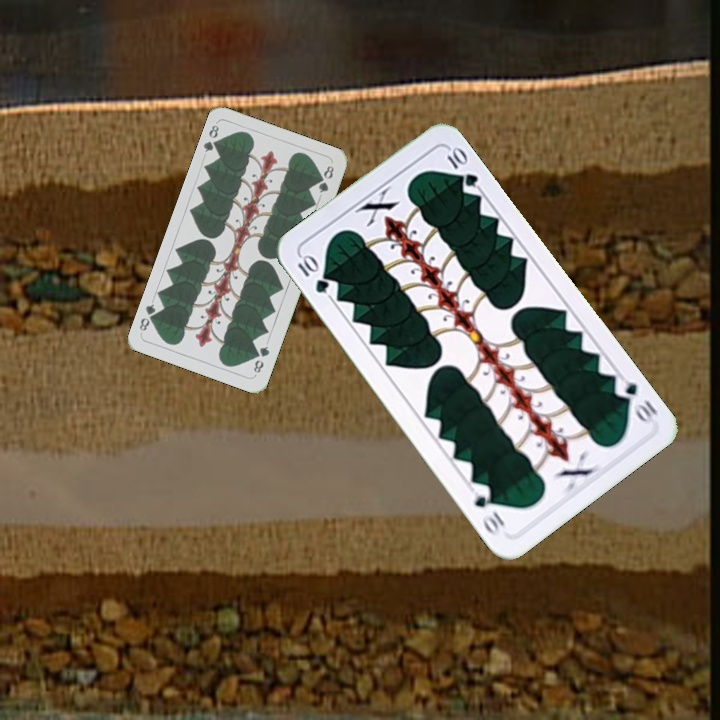G10: (609, 372, 660, 425), (293, 250, 332, 296)
G8: (199, 121, 224, 155), (249, 342, 272, 376)
